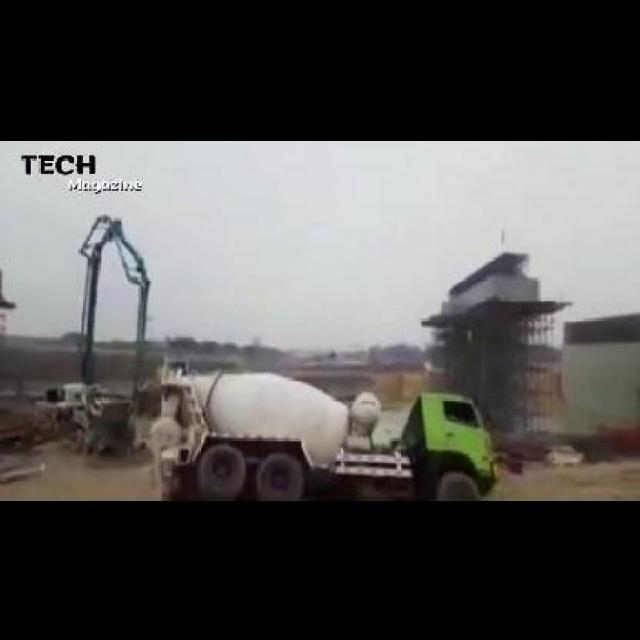accident: (140, 357, 500, 498)
